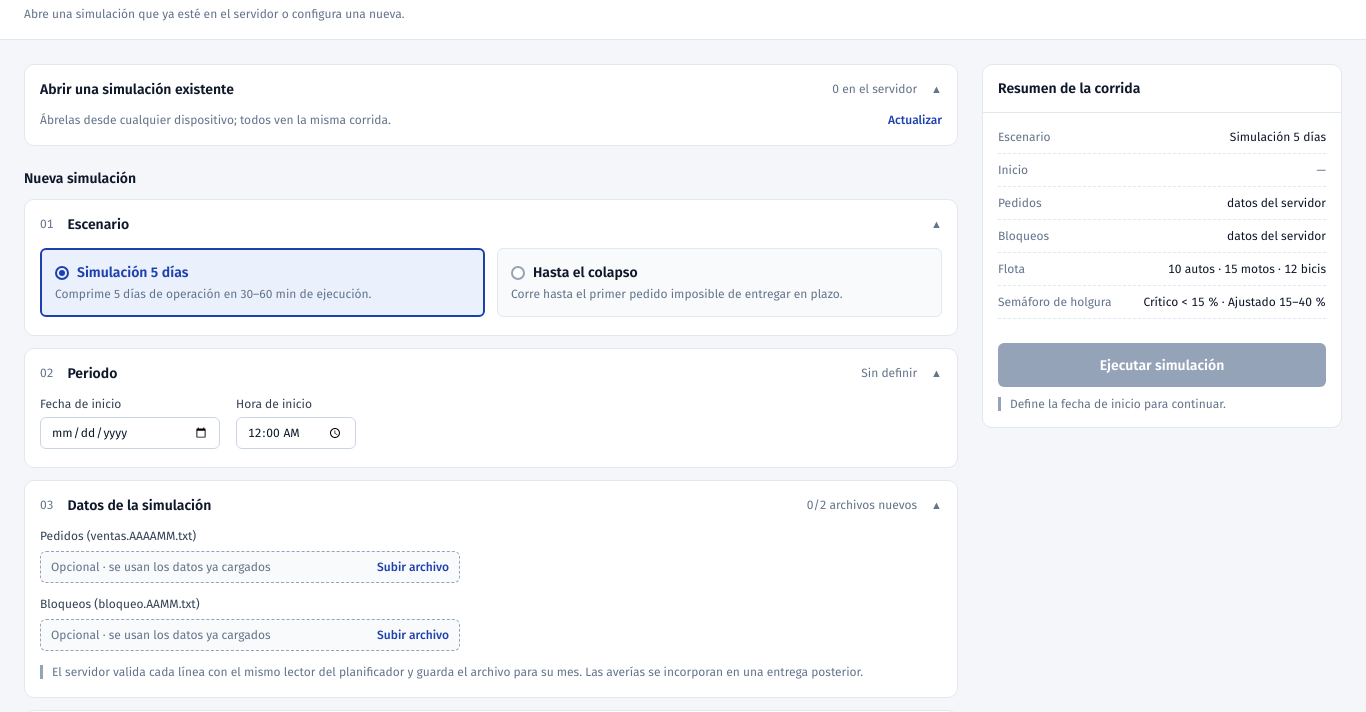
it: Rúbrica · carga de datos por GUI › G13 · una flota fuera de rango (más de 50 por tipo) no se acepta
In the date field labelled "Fecha de inicio": (130,433) [40, 417, 220, 449], type "2026-03-03"
(page scrolled)
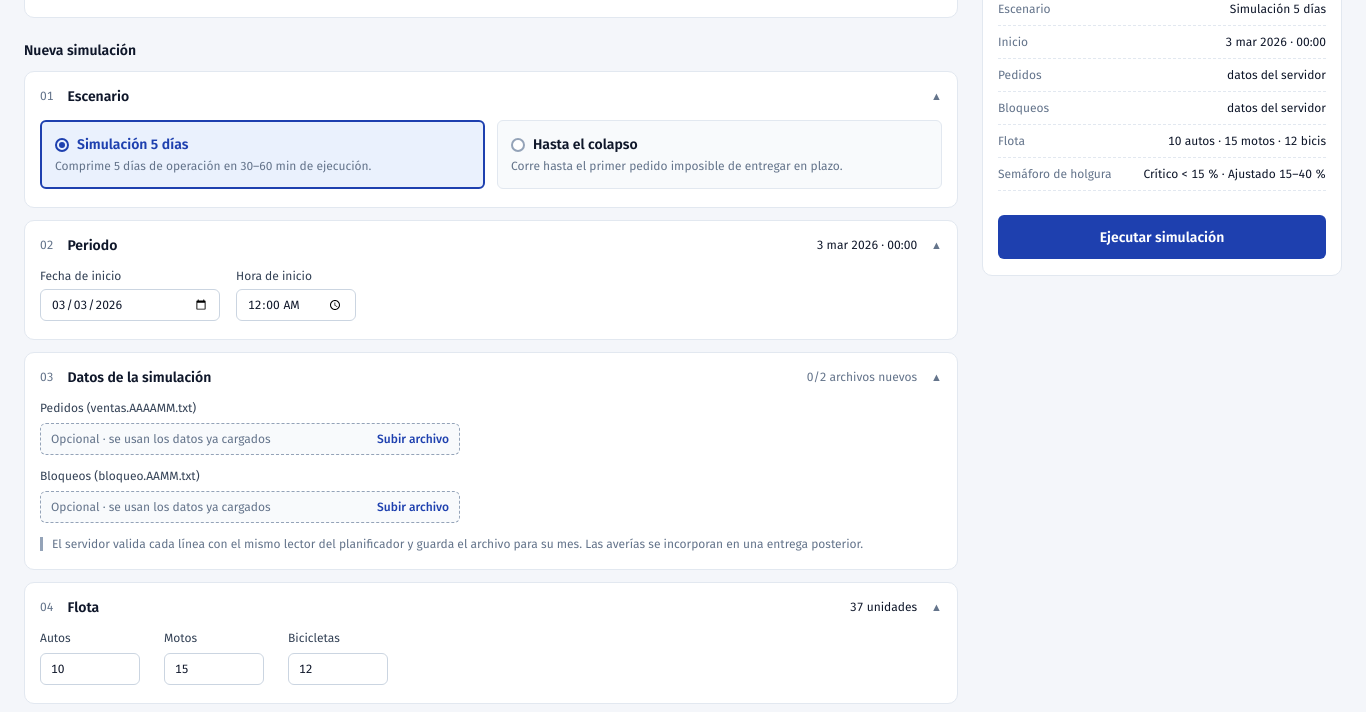
Replace the text in the number field labelled "Autos" with "51": (90,669) [40, 653, 140, 685]
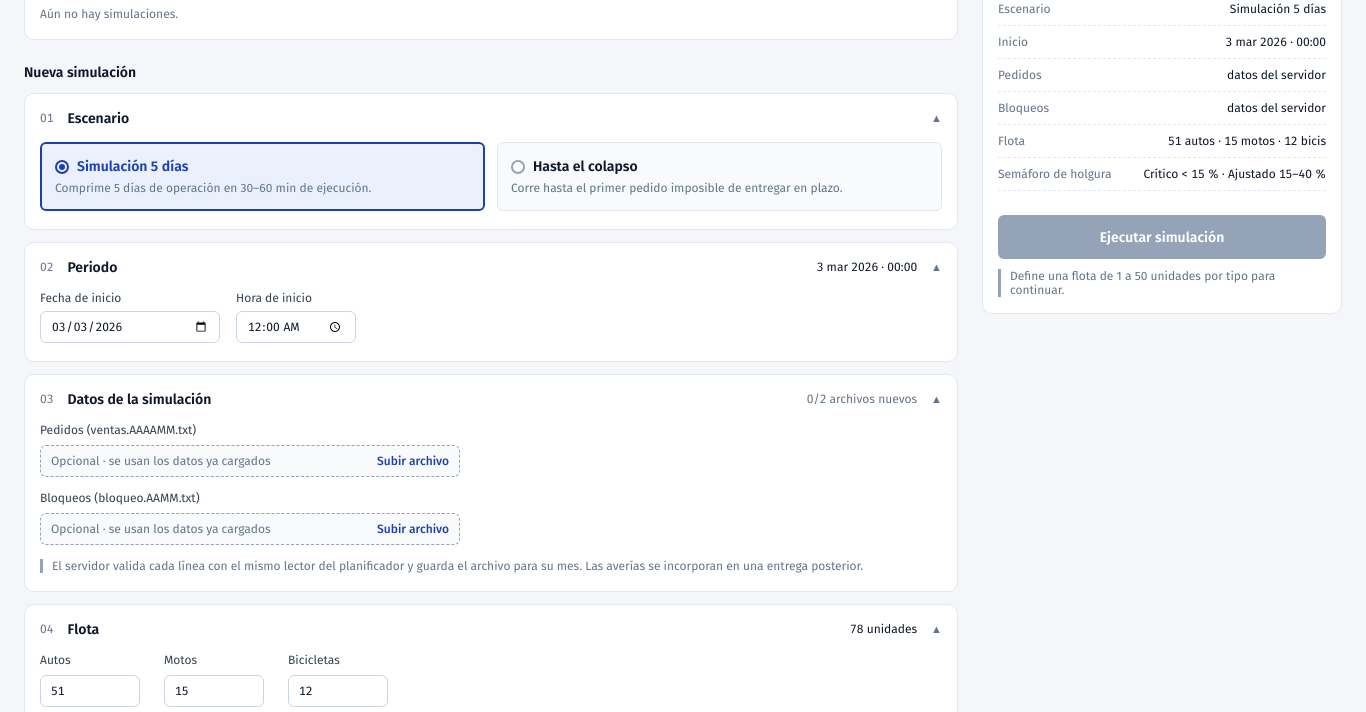
expect the button "Ejecutar simulación" is disabled: met, box [998, 215, 1326, 259]
expect the text "Define una flota de 1 a 50 unidades por tipo para continuar." is shown: met, box [998, 269, 1326, 297]
